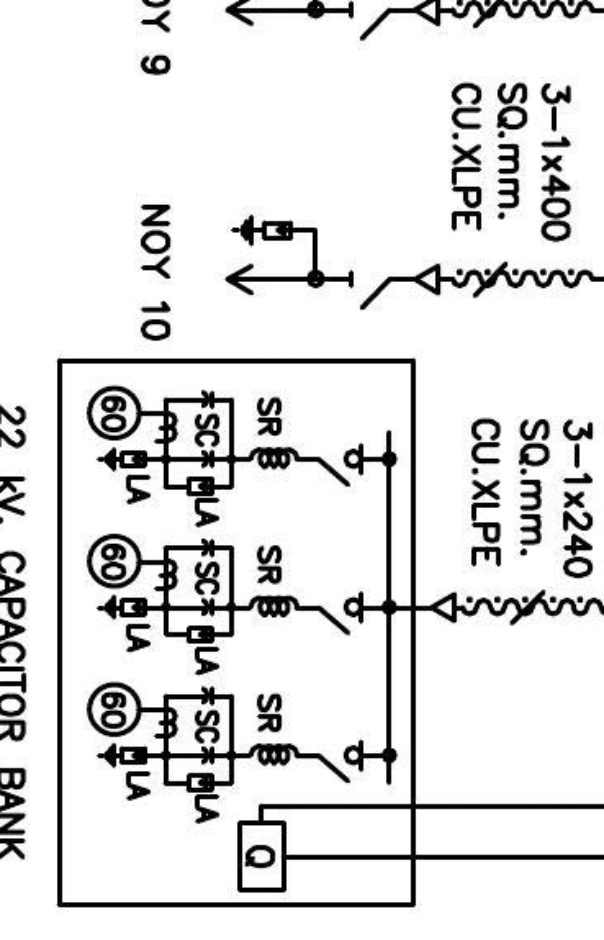22_cap_bank: (56, 357, 417, 908)
22_ds_la_out: (223, 214, 390, 312)
Q: (236, 819, 287, 894)
terminator_single: (429, 590, 458, 623), (413, 263, 441, 297)
